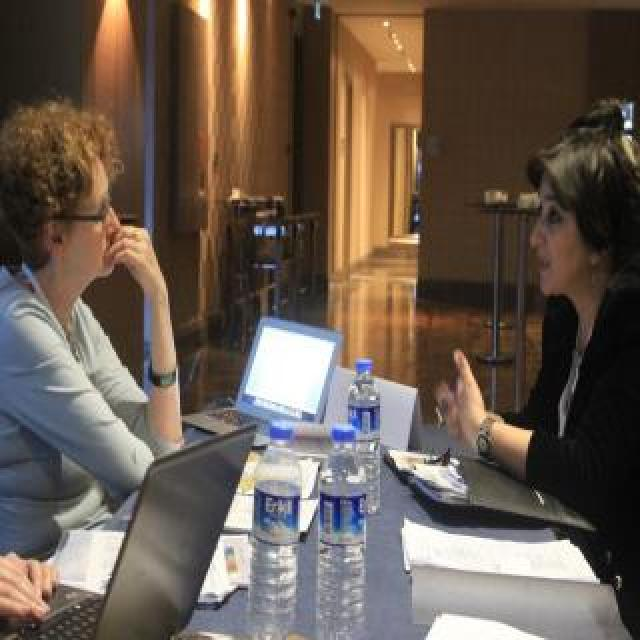earphone: (181, 300, 399, 449)
laptop_computer: (2, 422, 266, 640)
